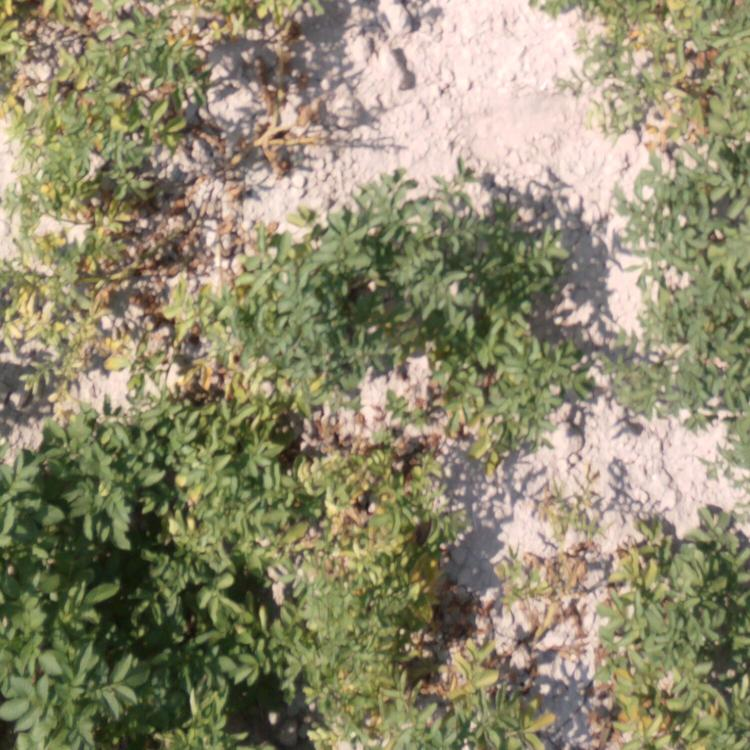healthy: (7, 445, 269, 750), (272, 196, 515, 360), (598, 174, 750, 410)
stressed: (295, 412, 555, 747), (1, 169, 241, 437), (593, 516, 749, 750), (532, 5, 750, 161), (9, 1, 196, 161), (207, 1, 327, 183)
